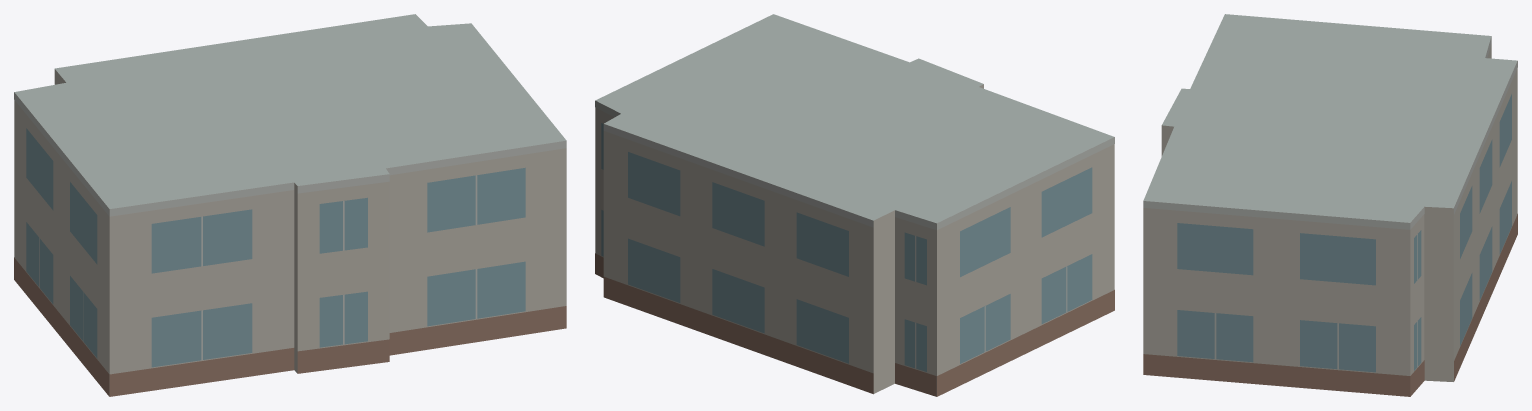
Rendered from survey-upis-32608607.glb.
3 views of the same model, side by side, from view 1: azimuth 30°, elevation 25°; view 2: azimuth 150°, elevation 25°; view 3: azimuth 270°, elevation 25° (orthographic). The views are drawn at different scales.
Visible parts, largest first — view 1: survey-upis-32608607.tmp; view 2: survey-upis-32608607.tmp; view 3: survey-upis-32608607.tmp.
Part boxes in pixels (box(x1,y1,x2,y2)): survey-upis-32608607.tmp: box(14, 14, 566, 396); survey-upis-32608607.tmp: box(595, 14, 1114, 396); survey-upis-32608607.tmp: box(1143, 14, 1517, 396).
Size of the model in its own units: 15.72 by 6.1 by 11.91.
